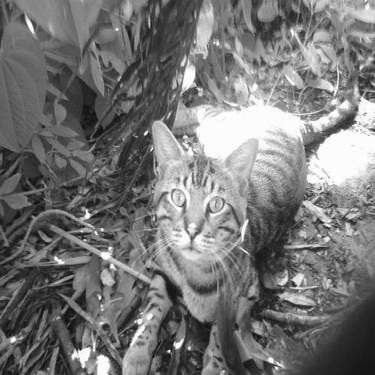cat: (138, 87, 361, 312)
